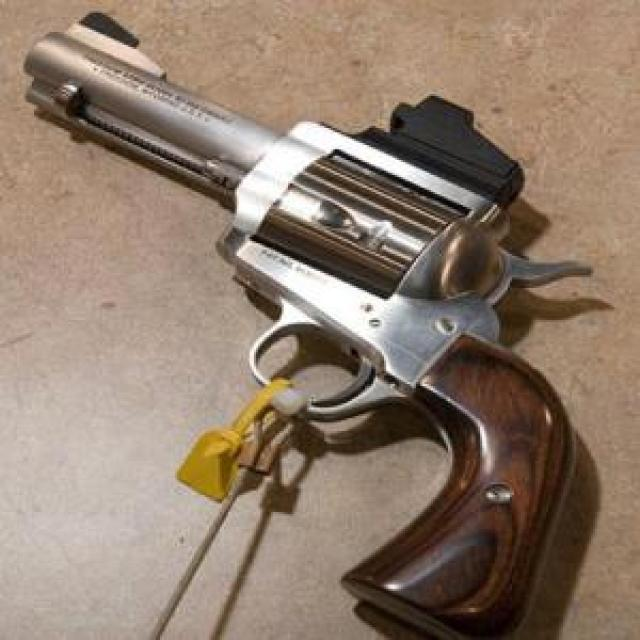pistol: (2, 21, 607, 634)
